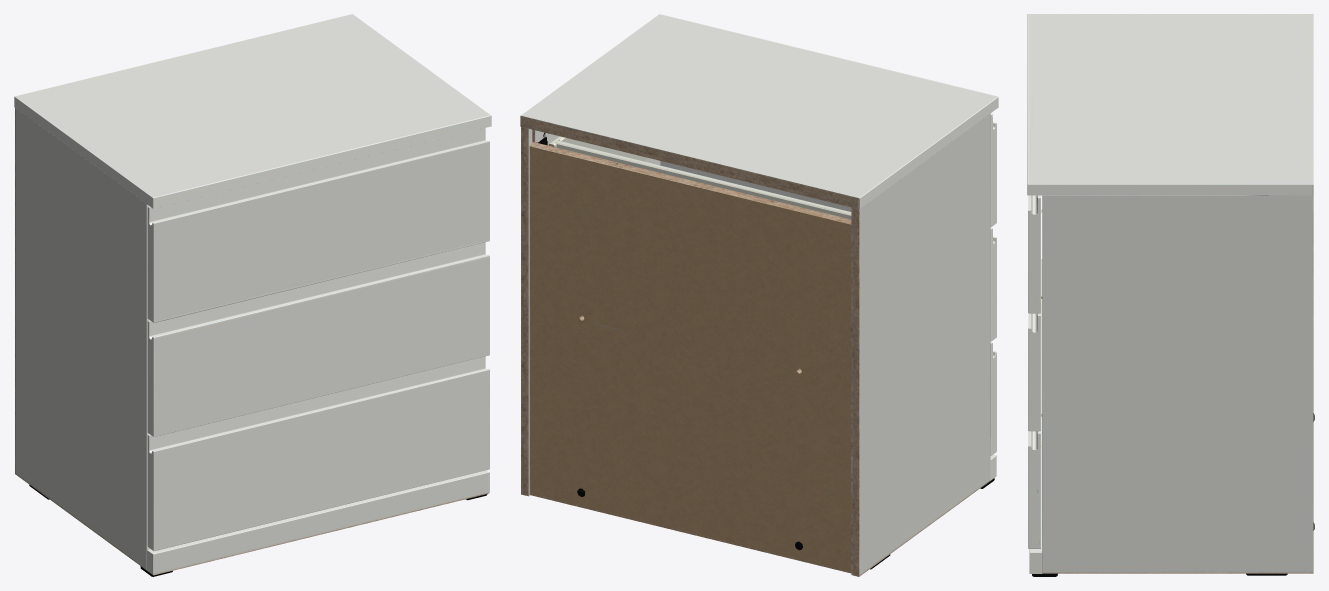
3 renders of one model, left to right at view 1: azimuth 30°, elevation 25°; view 2: azimuth 150°, elevation 25°; view 3: azimuth 270°, elevation 25°, orthographic. The views are drawn at different scales.
Visible parts, largest first — view 1: ASY_ART_30627533_S01_NV01; view 2: ASY_ART_30627533_S01_NV01; view 3: ASY_ART_30627533_S01_NV01.
Part boxes in pixels (<box>): ASY_ART_30627533_S01_NV01: <box>14,14,491,576</box>; ASY_ART_30627533_S01_NV01: <box>520,14,998,576</box>; ASY_ART_30627533_S01_NV01: <box>1027,14,1314,576</box>.
Size of the model in its own units: 0.699 by 0.7525 by 0.4979.
1 material, 1 textured.
